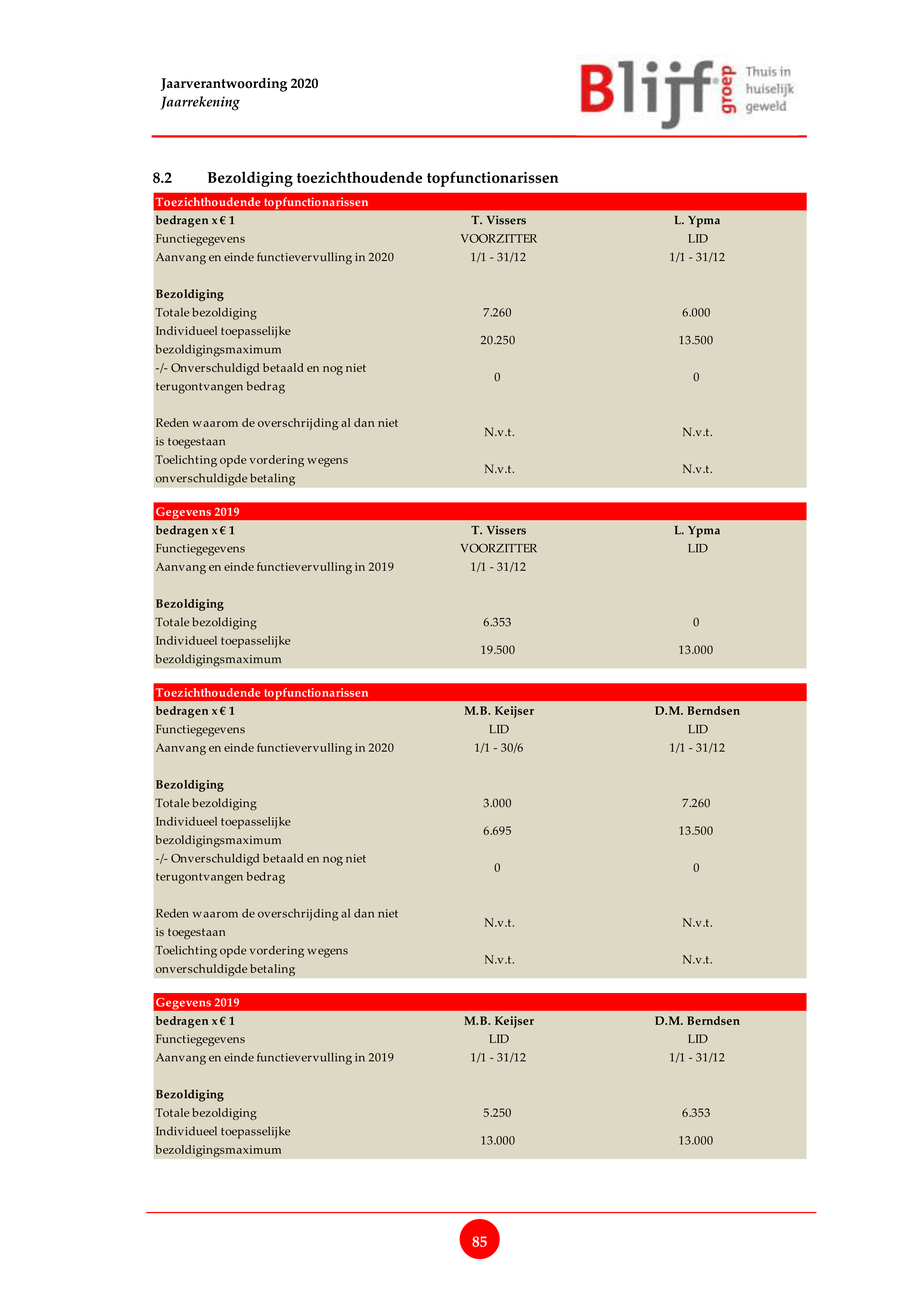coulmn: (152, 702, 402, 980), (155, 209, 402, 482), (152, 520, 396, 667), (152, 1013, 396, 1160), (647, 699, 746, 981), (657, 210, 748, 486), (453, 702, 543, 977), (454, 210, 539, 485), (651, 1013, 748, 1159), (449, 1014, 541, 1157), (454, 522, 546, 662), (650, 523, 734, 667)
